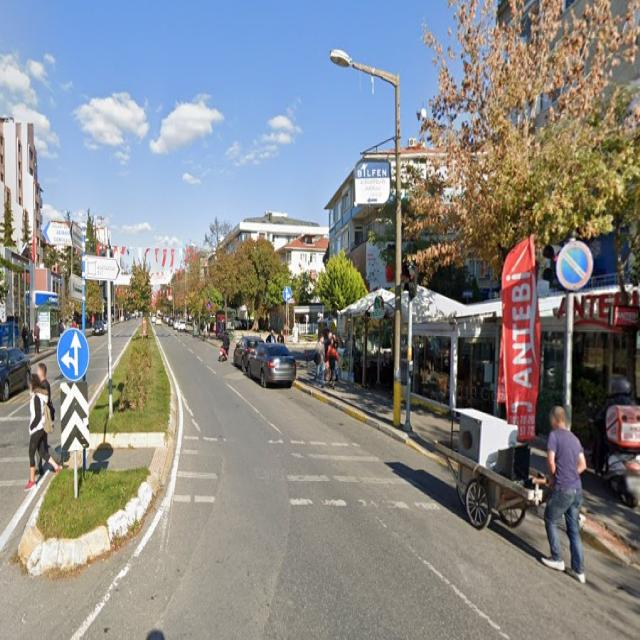ilerisag: (283, 286, 292, 303)
ilerisol: (57, 328, 89, 378)
parkyasak: (555, 241, 593, 290)
